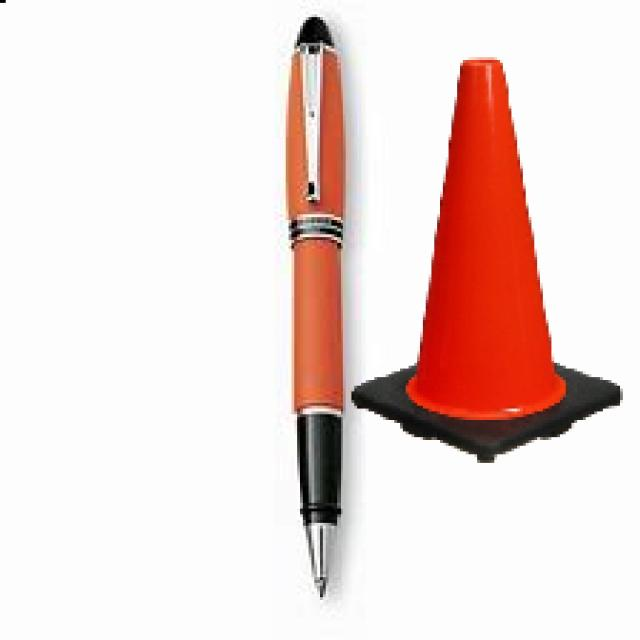traffic cone: (348, 54, 628, 467)
